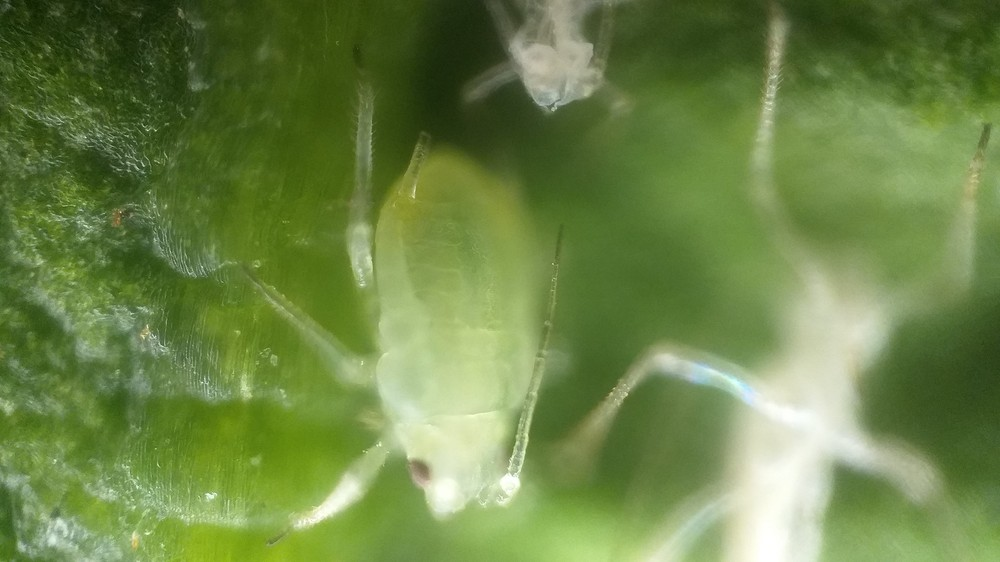Pulgon: (236, 66, 596, 546)
